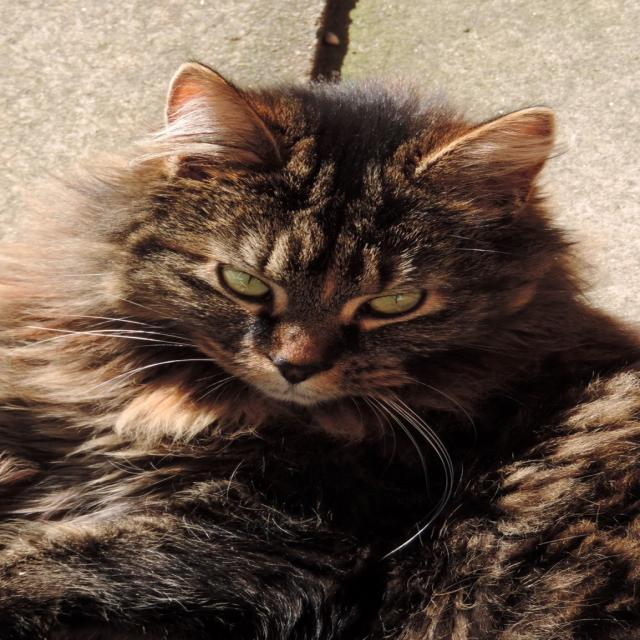Cat: (0, 55, 638, 639)
